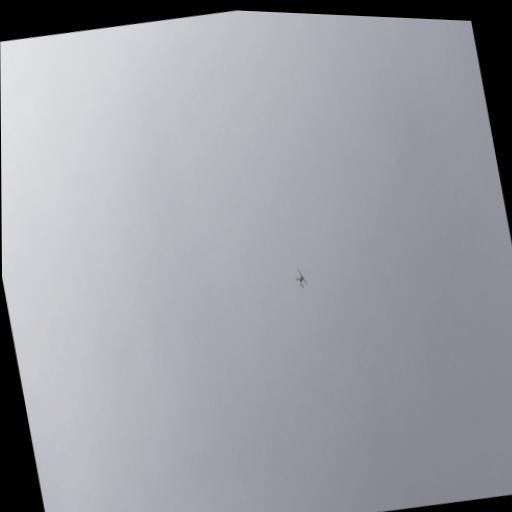drones: (292, 266, 309, 290)
